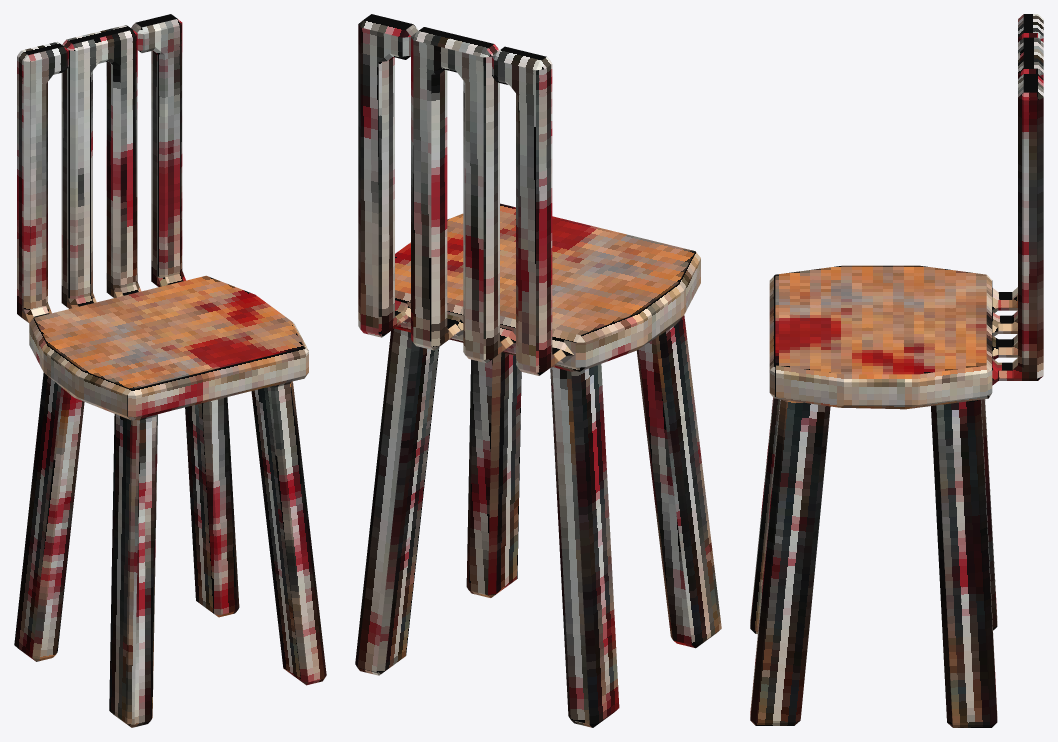
The model's file is basic_chair.glb.
3 renders of one model, left to right at view 1: azimuth 30°, elevation 25°; view 2: azimuth 150°, elevation 25°; view 3: azimuth 270°, elevation 25°, orthographic. The views are drawn at different scales.
Parts seen in each view (by area): view 1: basic_chair; view 2: basic_chair; view 3: basic_chair.
Boxes of the visible parts, <box> form: basic_chair: <box>14,14,326,727</box>; basic_chair: <box>355,14,721,727</box>; basic_chair: <box>750,14,1043,727</box>.
Size of the model in its own units: 0.5274 by 1.34 by 0.5733.
1 material, 1 textured.
